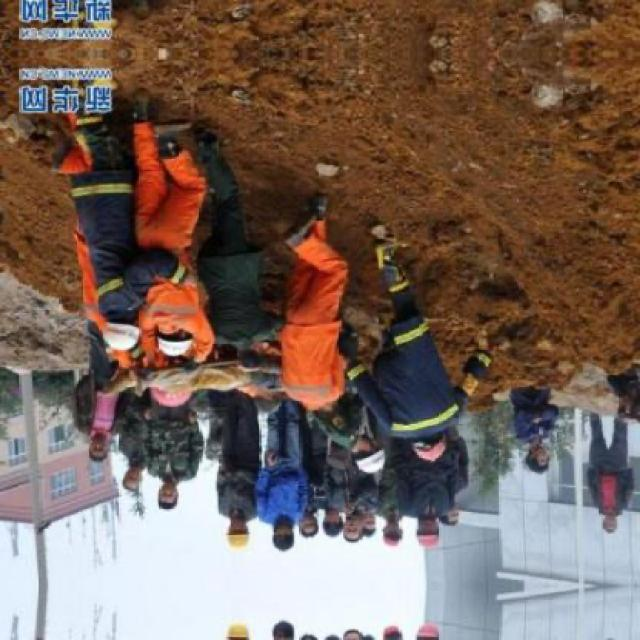con casco: (67, 292, 139, 368), (156, 314, 247, 369), (341, 424, 401, 481), (373, 522, 416, 564), (230, 505, 266, 545), (433, 432, 462, 478), (414, 514, 439, 552)
sin casco: (72, 423, 143, 487), (119, 460, 191, 514), (119, 458, 155, 501), (346, 515, 374, 553), (327, 513, 347, 537)
